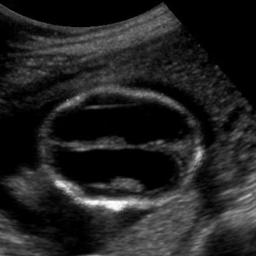abnormal: (37, 85, 208, 214)
